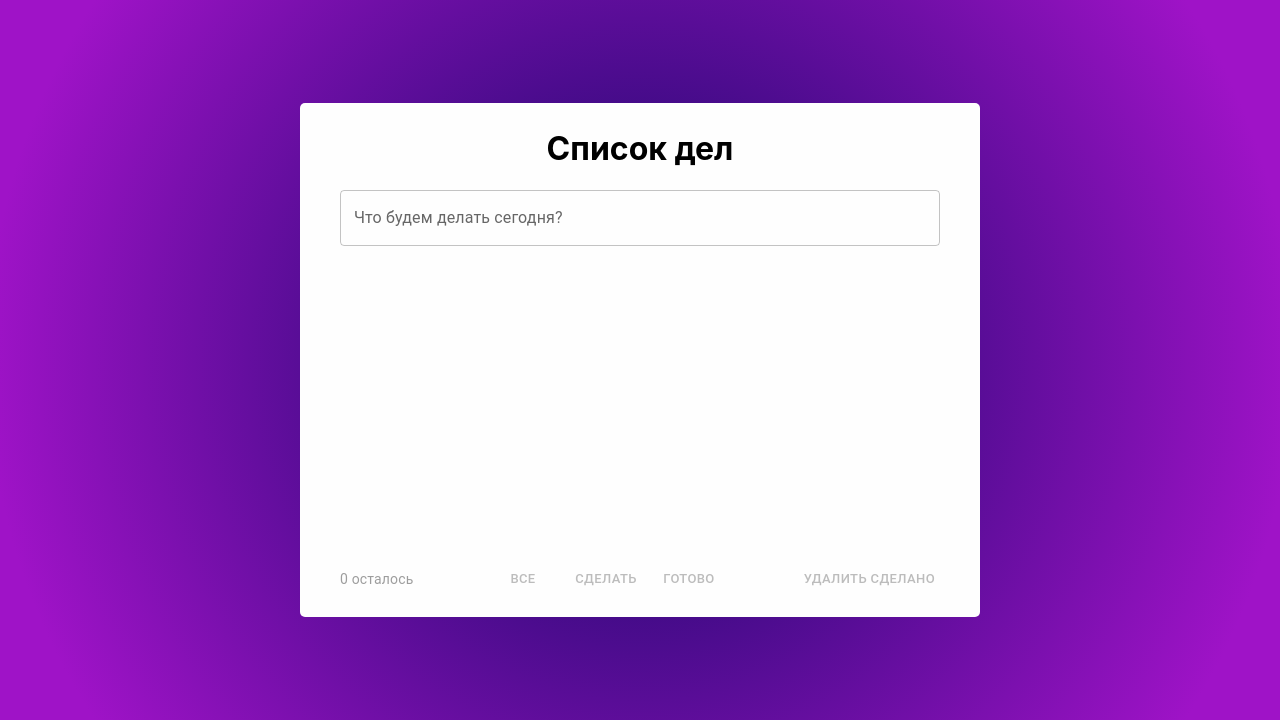
Scenario: App › should change todo's done state
The image size is (1280, 720).
Type "Программировать" into the field labelled "Что будем делать сегодня?". click: (640, 218)
box: [340,190,940,246]
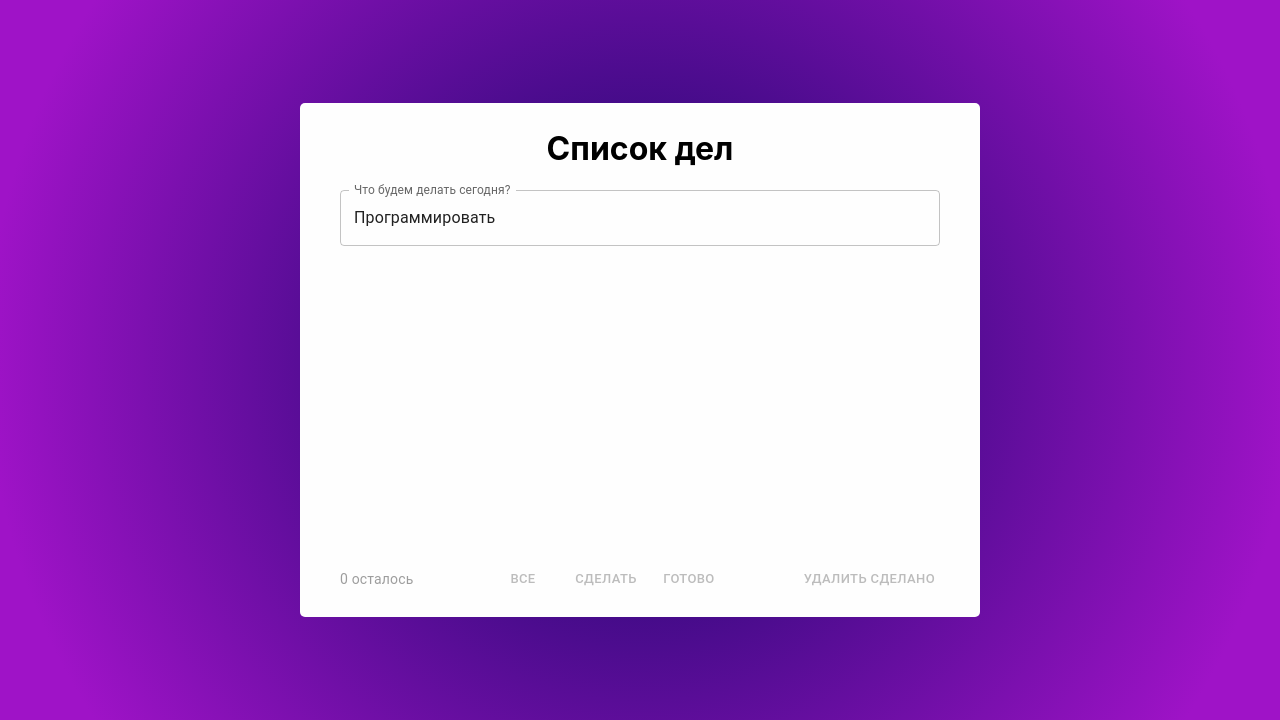
Submit the form with test id "todo-form", box [340,190,940,246]
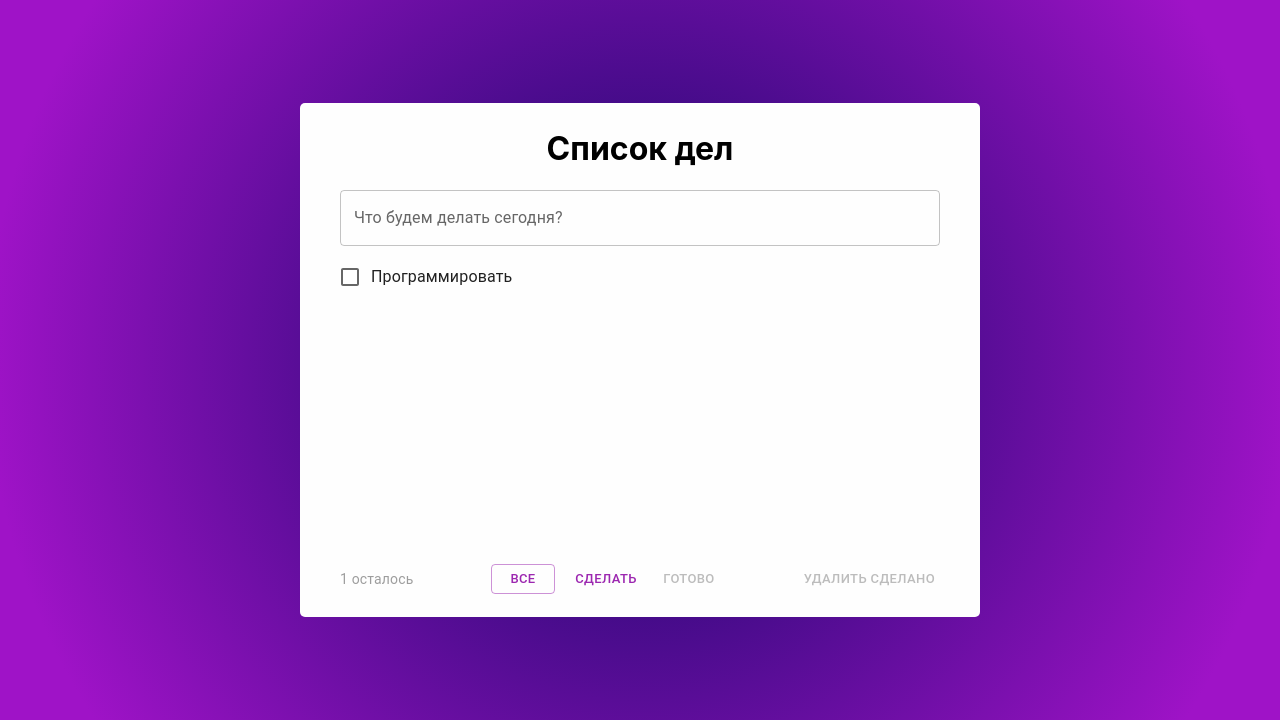
Check: the field labelled "Что будем делать сегодня?" is empty, box [340,190,940,246]
Check: the checkbox with test id "todo-item" is shown
Check: the text "Программировать" is shown, box [371,265,512,289]
Click the checkbox labelled "Программировать". click: (425, 277)
box: [338,265,512,289]
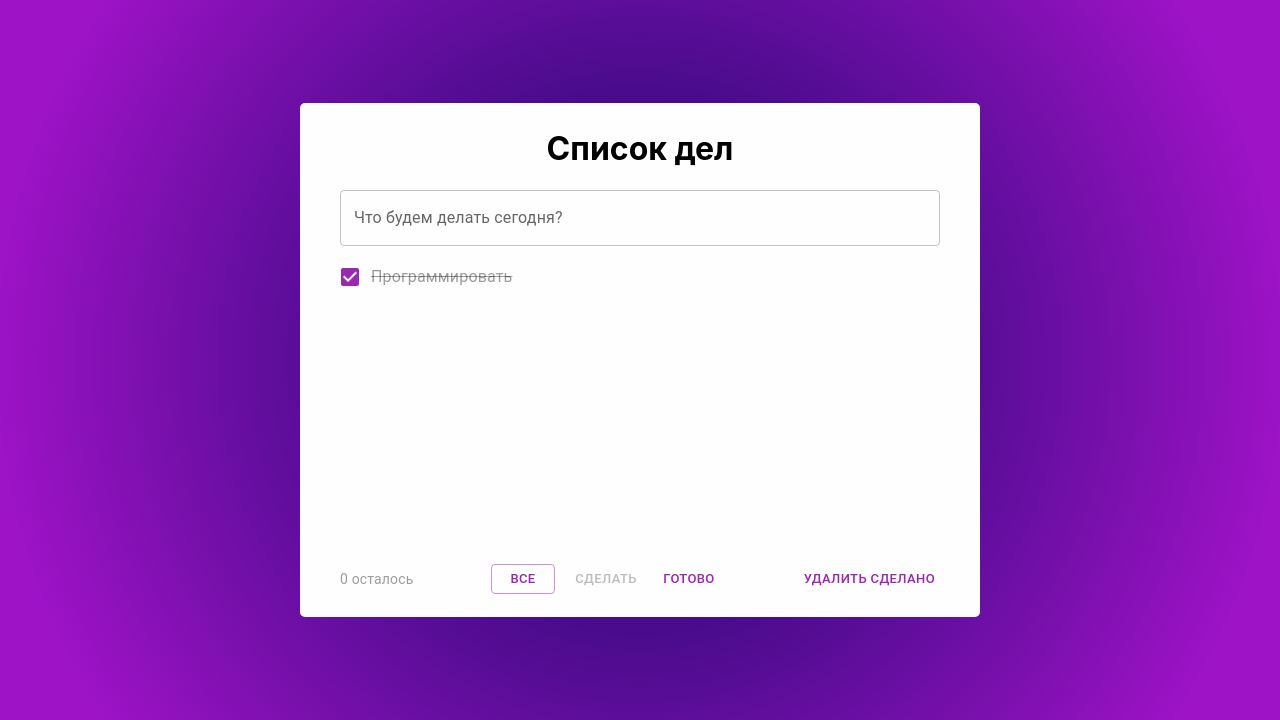
Check: the button with test id "all" is enabled, box [491,564,555,594]
Check: the button with test id "active" is disabled, box [570,564,642,594]
Check: the button with test id "completed" is enabled, box [657,564,721,594]
